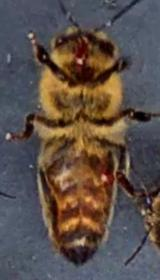varroa_mite: (97, 165, 116, 185)
